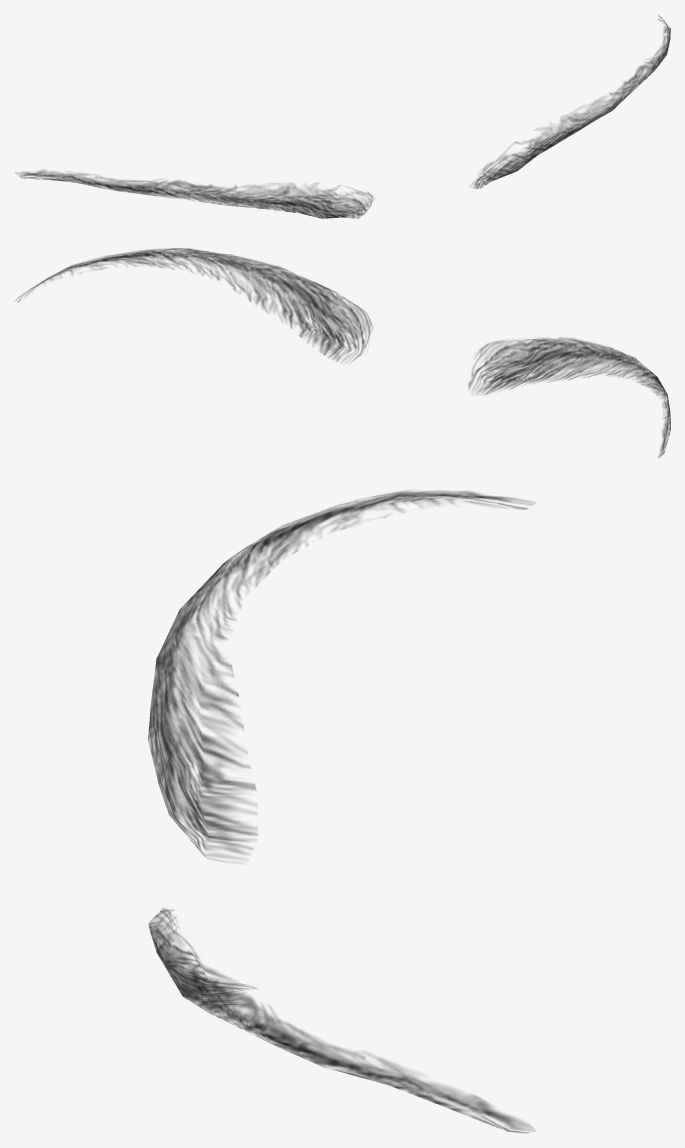
The model's file is brows_eyebrow004.gltf.
The picture shows the model from 3 angles, top to bottom: view 1: azimuth 30°, elevation 25°; view 2: azimuth 150°, elevation 25°; view 3: azimuth 270°, elevation 25°; orthographic projection. The views are drawn at different scales.
Parts seen in each view (by area): view 1: brows_eyebrow004; view 2: brows_eyebrow004; view 3: brows_eyebrow004.
Part boxes in pixels (x1,y1,x2,y2): brows_eyebrow004: (15,15,670,218); brows_eyebrow004: (15,248,670,457); brows_eyebrow004: (148,491,535,1133).
Size of the model in its own units: 0.1125 by 0.0131 by 0.0294.
Materials: 1 (1 with a texture image).
